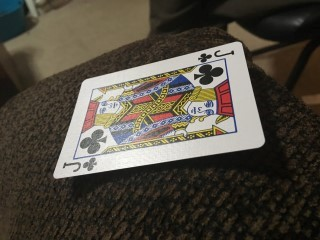JackOfClubs: (52, 40, 265, 179)
